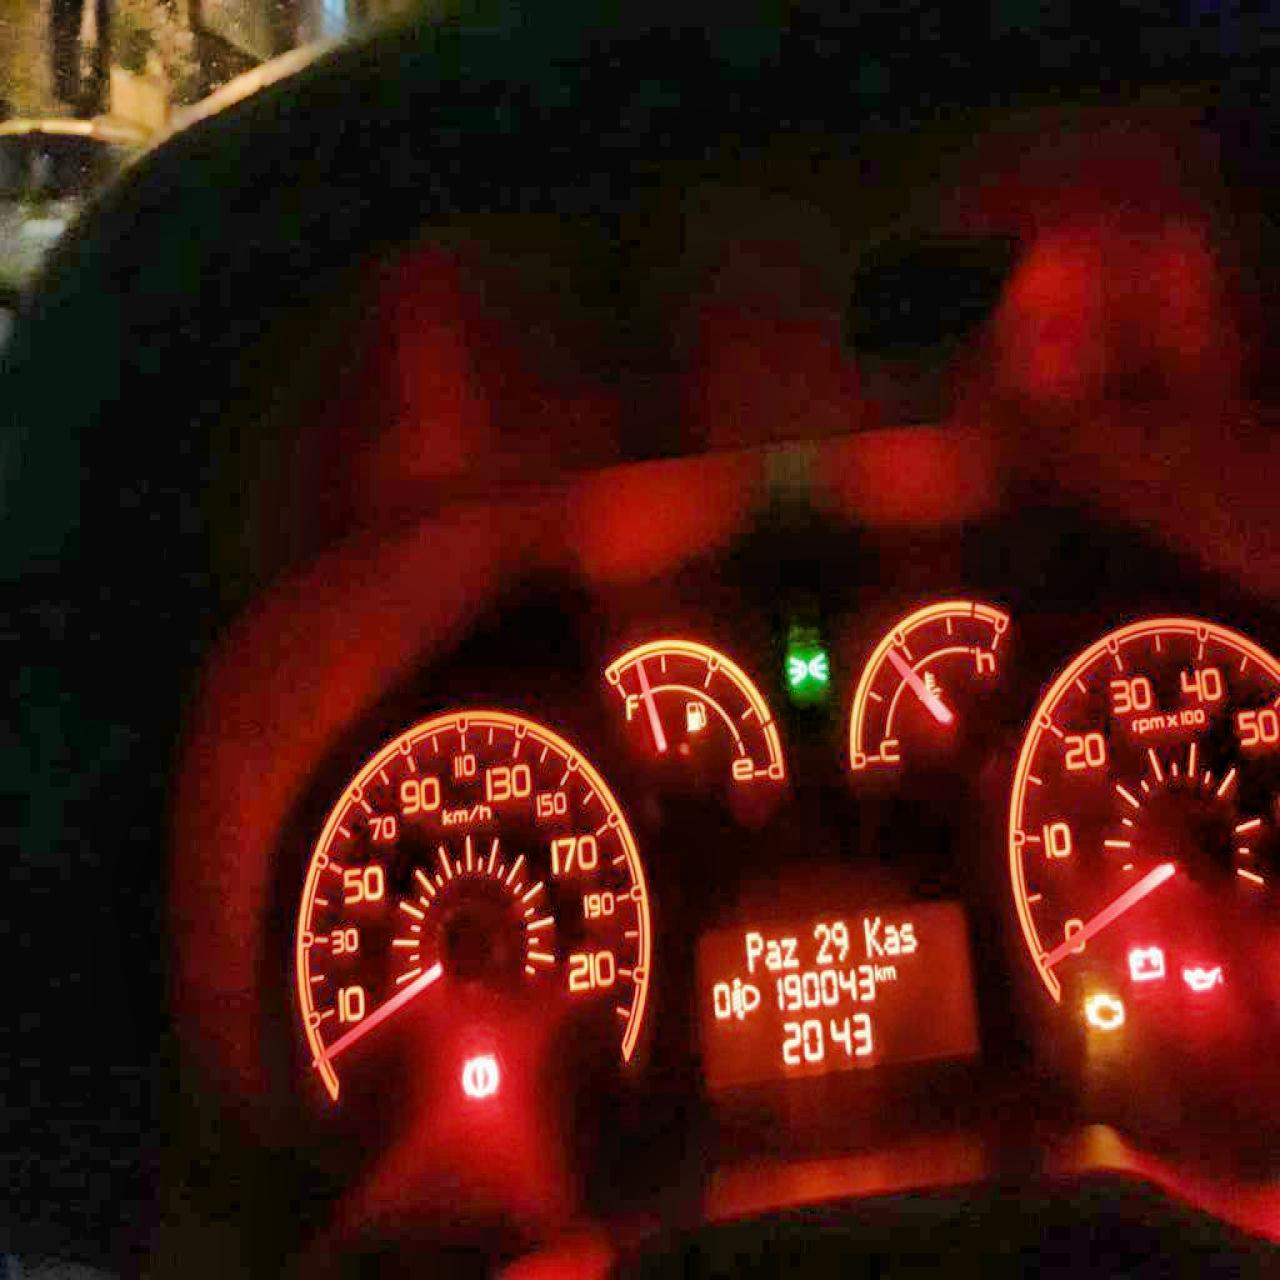0: (802, 1015, 824, 1060), (799, 969, 819, 1008), (712, 980, 730, 1016), (818, 967, 837, 1003)
1: (774, 975, 784, 1010)
2: (781, 1020, 801, 1062), (811, 920, 831, 961)
3: (851, 1012, 870, 1055), (856, 961, 873, 1000)
4: (829, 1015, 850, 1055), (837, 965, 857, 1000)
9: (831, 918, 850, 960), (782, 971, 799, 1010)
X: (862, 915, 883, 955), (743, 931, 763, 972), (779, 935, 799, 967), (899, 918, 917, 952), (764, 938, 782, 969), (883, 924, 900, 953), (881, 964, 897, 980), (873, 961, 881, 980)
odometer: (693, 908, 982, 1084)
